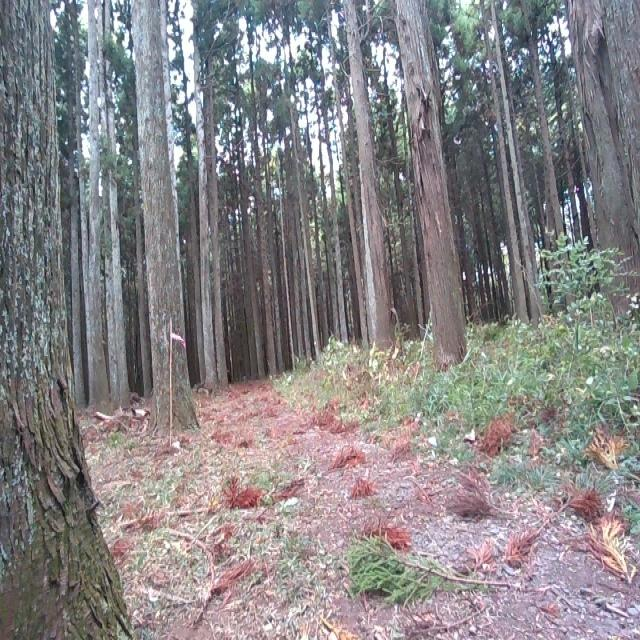bush: (526, 228, 640, 477)
tree: (0, 0, 137, 640), (130, 0, 199, 432), (393, 0, 471, 371), (568, 0, 638, 316), (481, 0, 544, 324), (341, 0, 390, 365), (85, 0, 128, 405), (191, 4, 233, 394)
